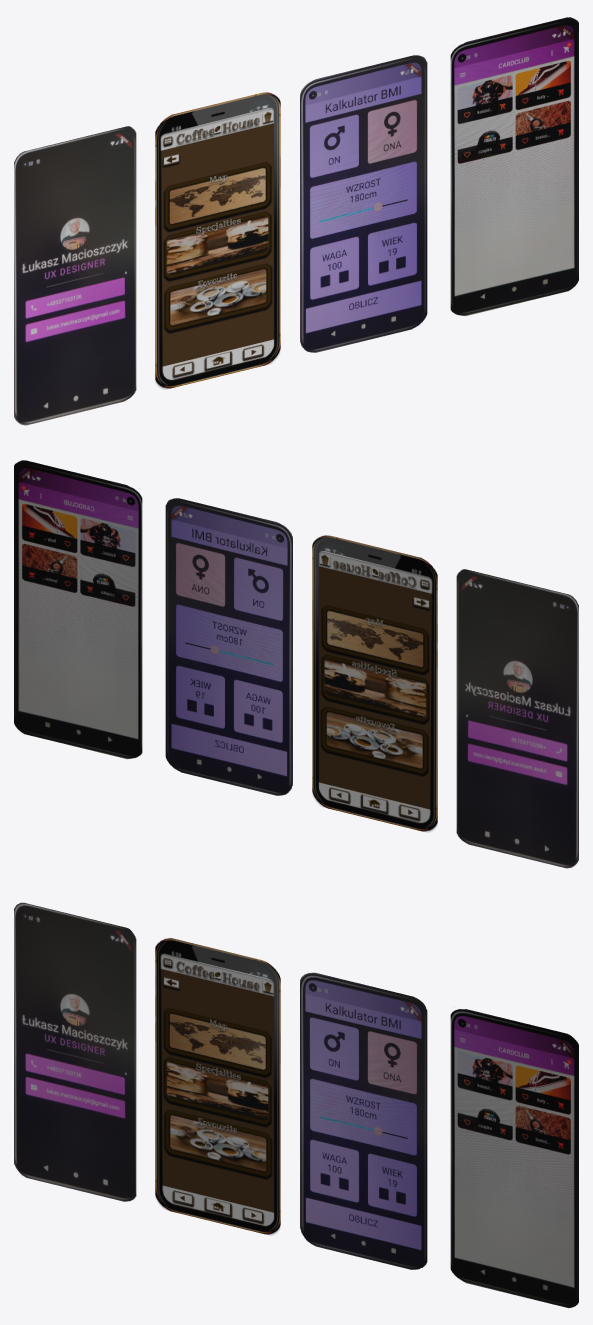
Rendered from prezentacja1.glb.
3 renders of one model, top to bottom at view 1: azimuth 30°, elevation 25°; view 2: azimuth 150°, elevation 25°; view 3: azimuth 330°, elevation 25°, orthographic.
Visible parts, largest first — view 1: mesh_id42, mesh_id36, mesh_id34, mesh_id32; view 2: mesh_id42, mesh_id36, mesh_id34, mesh_id32; view 3: mesh_id42, mesh_id36, mesh_id34, mesh_id32.
Part boxes in pixels (bbox=[...]): mesh_id42: bbox=[450, 17, 578, 316]; mesh_id36: bbox=[300, 55, 427, 352]; mesh_id34: bbox=[155, 92, 280, 388]; mesh_id32: bbox=[14, 126, 136, 425]; mesh_id42: bbox=[14, 460, 142, 759]; mesh_id36: bbox=[165, 498, 292, 795]; mesh_id34: bbox=[312, 535, 437, 831]; mesh_id32: bbox=[456, 569, 578, 868]; mesh_id42: bbox=[450, 1009, 578, 1308]; mesh_id36: bbox=[300, 972, 427, 1269]; mesh_id34: bbox=[155, 938, 280, 1234]; mesh_id32: bbox=[14, 902, 136, 1201].
Bounding box in the file's own units: 1.28 × 0.5979 × 0.
Materials: 4 (4 with a texture image).
